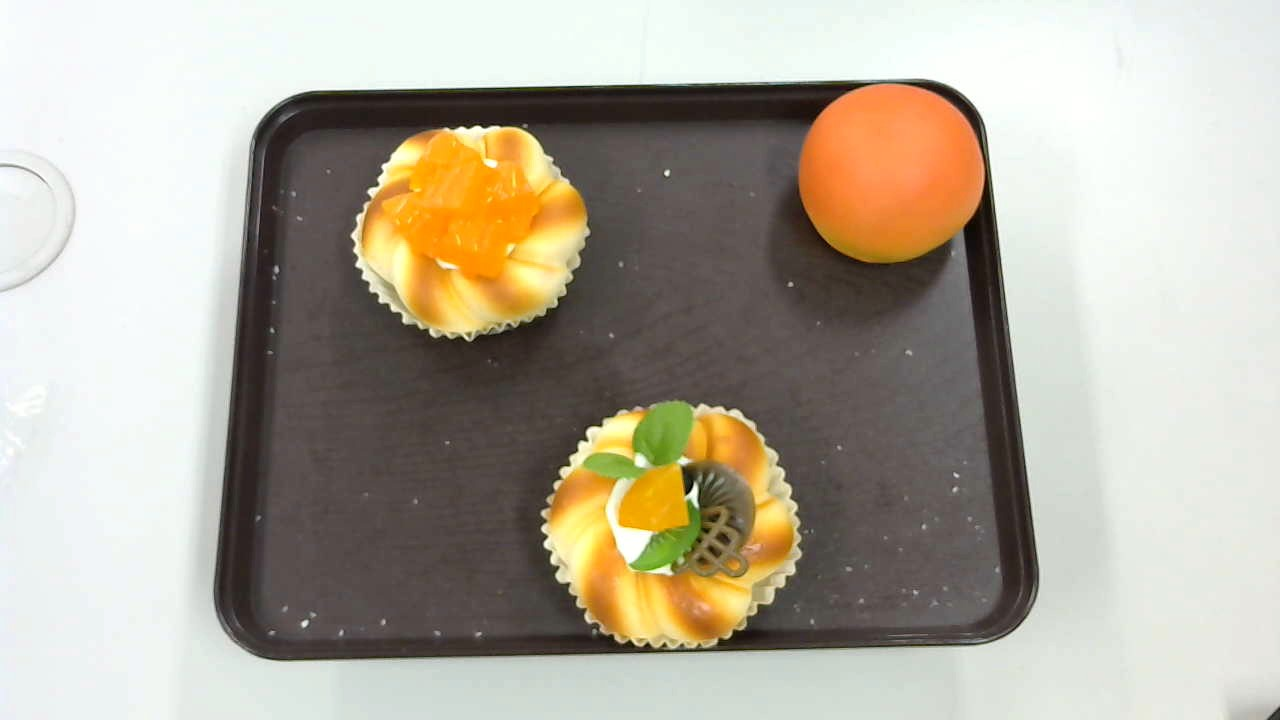bun: (799, 82, 984, 263)
fruit tart: (540, 398, 801, 648)
mango tart: (351, 126, 590, 343)
